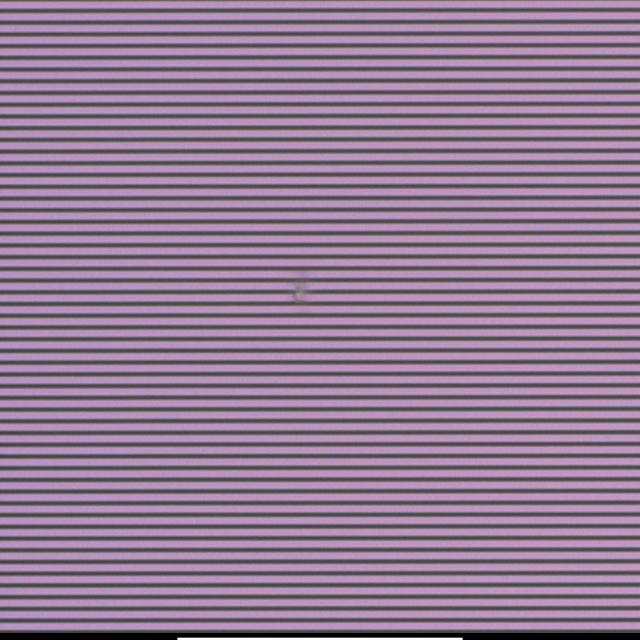nonvisual: (286, 270, 316, 312)
